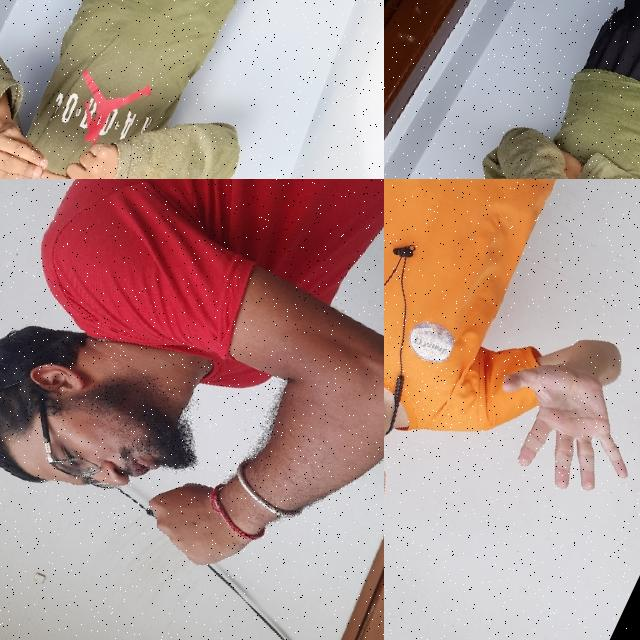Fist Mouth: (0, 305, 322, 600)
Five Fathers: (0, 82, 144, 179)
Moutza: (461, 328, 640, 521)
